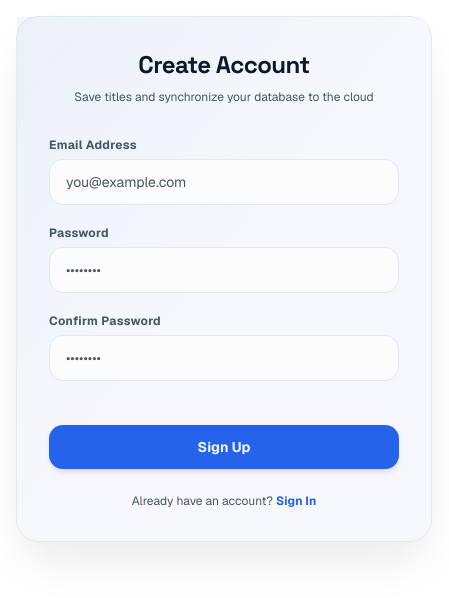
Scenario: Validated Auth Form Component › validates mismatched password confirmation on registration
The width and height of the screenshot is (449, 598).
Type "candidate@hirevium.com" into the field labelled "Email Address" at (224, 182), box [49,159,399,205]
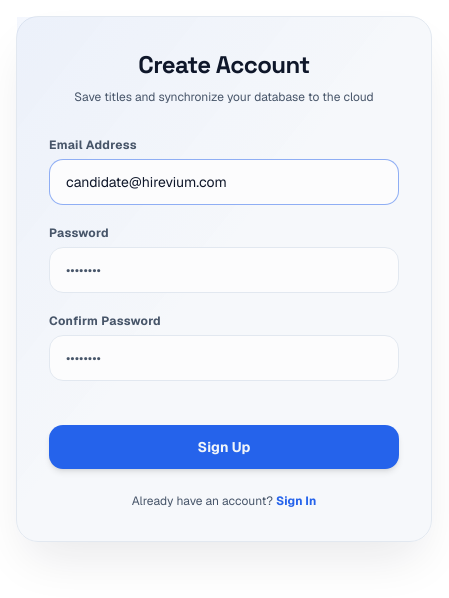
Type "secret123" into the password field labelled "Password" at (224, 270), box [49,247,399,293]
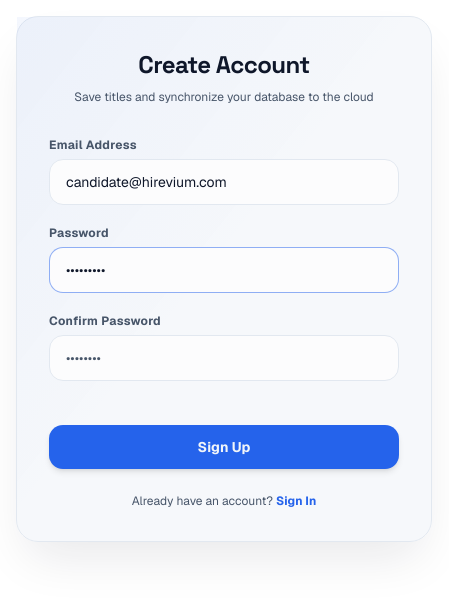
Type "different123" into the password field labelled "Confirm Password" at (224, 358), box [49,335,399,381]
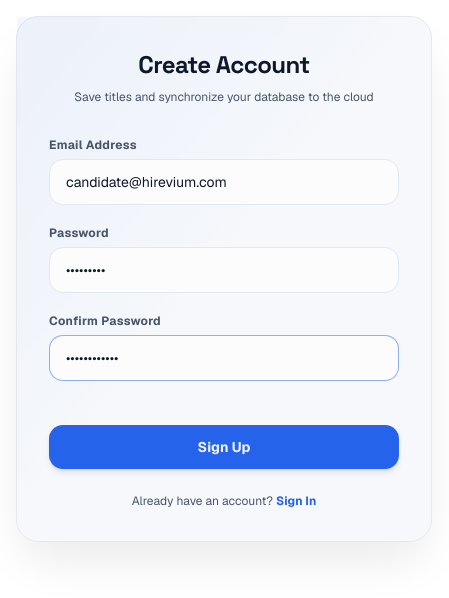
Click the button "Sign Up" at (224, 447), box [49,425,399,469]
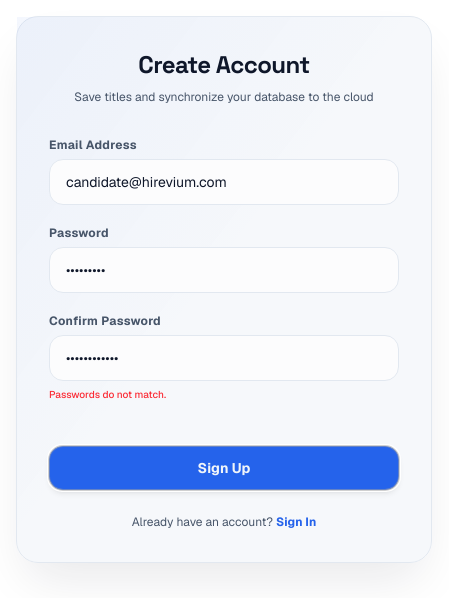
Check: the text "Passwords do not match." is shown, box [49,388,166,401]
